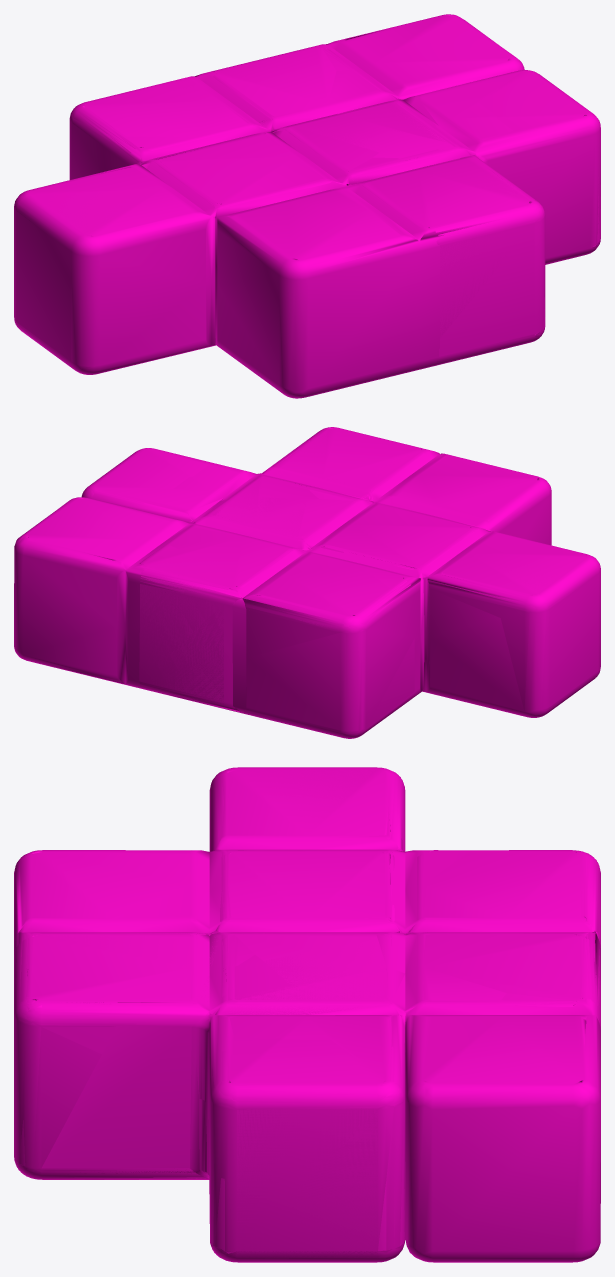
3 renders of one model, top to bottom at view 1: azimuth 30°, elevation 25°; view 2: azimuth 150°, elevation 25°; view 3: azimuth 270°, elevation 25°, orthographic. The views are drawn at different scales.
Parts seen in each view (by area): view 1: 12, 6, 4, 5, 7, 8, 10, 11, 3, 2, 9; view 2: 8, 10, 6, 12, 9, 4, 7, 2, 11, 3, 5; view 3: 10, 5, 11, 9, 12, 4, 6, 8, 3, 2, 7, 1.
Part boxes in pixels (box(x1,y1,x2,y2)): 12: box(69, 48, 545, 398); 6: box(14, 106, 543, 374); 4: box(214, 46, 545, 361); 5: box(161, 70, 600, 362); 7: box(14, 47, 417, 374); 8: box(69, 53, 407, 205); 10: box(158, 14, 524, 205); 11: box(161, 48, 600, 365); 3: box(161, 48, 453, 206); 2: box(214, 47, 456, 173); 9: box(70, 47, 600, 254); 8: box(139, 477, 472, 738); 10: box(14, 478, 470, 705); 6: box(212, 427, 600, 717); 12: box(140, 427, 551, 738); 9: box(82, 448, 414, 738); 4: box(139, 427, 424, 709); 7: box(141, 486, 600, 717); 2: box(139, 477, 355, 702); 11: box(81, 427, 472, 587); 3: box(139, 478, 473, 705); 5: box(83, 427, 470, 566); 10: box(216, 850, 600, 1262); 5: box(14, 851, 404, 1262); 11: box(14, 850, 586, 1262); 9: box(212, 850, 600, 1262); 12: box(14, 850, 600, 1178); 4: box(14, 933, 599, 1179); 6: box(14, 767, 405, 1179); 8: box(219, 850, 600, 1010); 3: box(221, 850, 600, 1010); 2: box(222, 933, 600, 1012); 7: box(209, 767, 584, 1006); 1: box(221, 933, 389, 1005).
Bounding box in the file's own units: 200 × 50 × 150.
